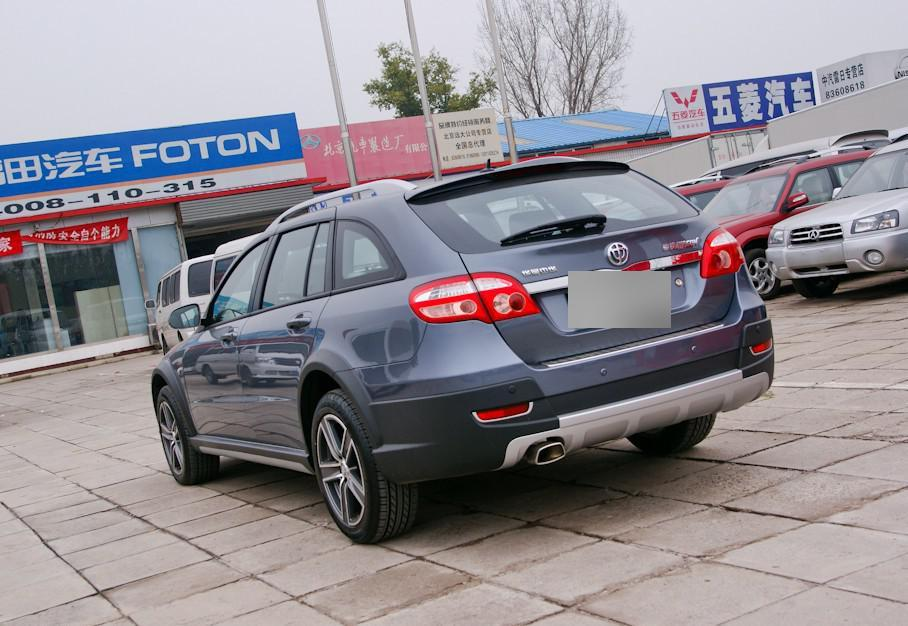Wagon: (148, 156, 778, 546)
